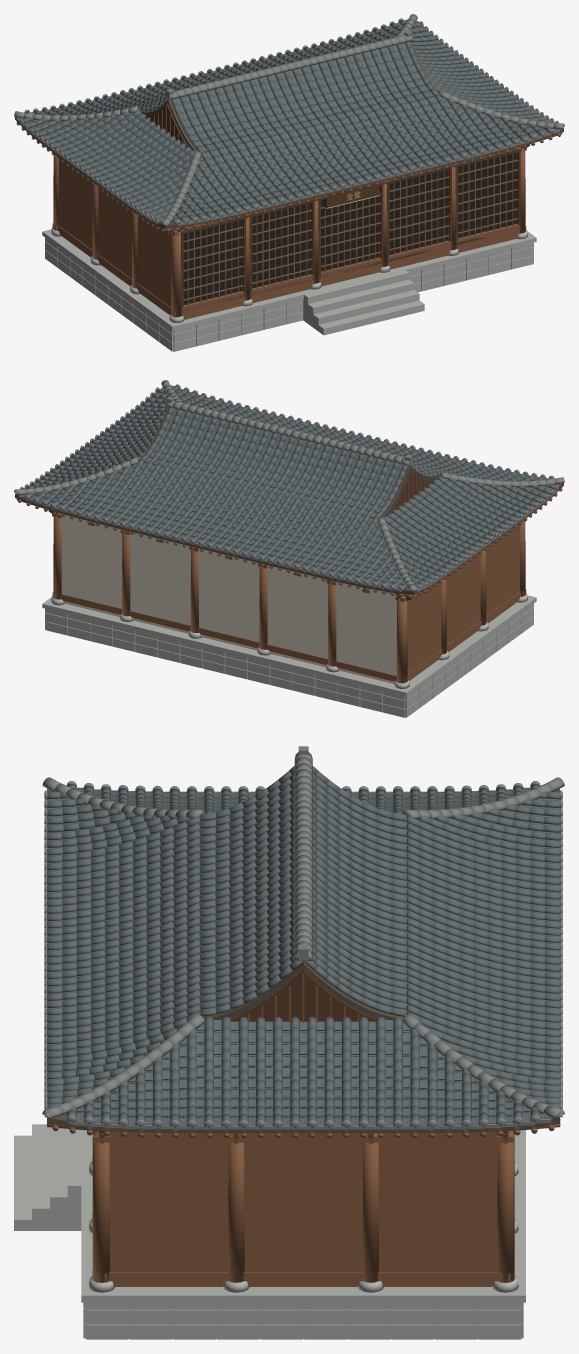
Rendered from Japan_Kondo.fbx.
3 renders of one model, top to bottom at view 1: azimuth 30°, elevation 25°; view 2: azimuth 150°, elevation 25°; view 3: azimuth 270°, elevation 25°, orthographic. The views are drawn at different scales.
Parts seen in each view (by area): view 1: GW_Japan_Kondo_Individual_Sukiwa, GW_Japan_Kondo_Doors_Lattice, GW_Japan_Kondo_Individual_Amkiwa, GW_Japan_Kondo_Stone_Foundation, GW_Japan_Kondo_Walls_Floor, GW_Japan_Kondo_Timber, GW_Japan_Kondo_Segmented_Ridge, GW_Japan_Kondo_Individual_Wadang, GW_Japan_Kondo_Roof_Shell, GW_Japan_Kondo_Individual_Rafters, GW_Japan_Kondo_Signboard; view 2: GW_Japan_Kondo_Individual_Sukiwa, GW_Japan_Kondo_Walls_Floor, GW_Japan_Kondo_Individual_Amkiwa, GW_Japan_Kondo_Stone_Foundation, GW_Japan_Kondo_Timber, GW_Japan_Kondo_Segmented_Ridge, GW_Japan_Kondo_Individual_Wadang, GW_Japan_Kondo_Roof_Shell, GW_Japan_Kondo_Individual_Rafters; view 3: GW_Japan_Kondo_Individual_Sukiwa, GW_Japan_Kondo_Walls_Floor, GW_Japan_Kondo_Individual_Amkiwa, GW_Japan_Kondo_Stone_Foundation, GW_Japan_Kondo_Timber, GW_Japan_Kondo_Segmented_Ridge, GW_Japan_Kondo_Roof_Shell, GW_Japan_Kondo_Individual_Wadang, GW_Japan_Kondo_Individual_Rafters.
Boxes of the visible parts, <box> form: GW_Japan_Kondo_Individual_Sukiwa: <box>23,20,557,223</box>; GW_Japan_Kondo_Doors_Lattice: <box>181,149,520,319</box>; GW_Japan_Kondo_Individual_Amkiwa: <box>16,19,560,225</box>; GW_Japan_Kondo_Stone_Foundation: <box>42,229,536,351</box>; GW_Japan_Kondo_Walls_Floor: <box>59,149,510,314</box>; GW_Japan_Kondo_Timber: <box>51,146,527,322</box>; GW_Japan_Kondo_Segmented_Ridge: <box>14,14,564,225</box>; GW_Japan_Kondo_Individual_Wadang: <box>19,18,558,225</box>; GW_Japan_Kondo_Roof_Shell: <box>15,41,563,229</box>; GW_Japan_Kondo_Individual_Rafters: <box>16,121,562,231</box>; GW_Japan_Kondo_Signboard: <box>324,182,379,208</box>; GW_Japan_Kondo_Individual_Sukiwa: <box>21,386,555,589</box>; GW_Japan_Kondo_Walls_Floor: <box>61,515,519,683</box>; GW_Japan_Kondo_Individual_Amkiwa: <box>18,385,557,592</box>; GW_Japan_Kondo_Stone_Foundation: <box>42,595,536,717</box>; GW_Japan_Kondo_Timber: <box>51,512,527,688</box>; GW_Japan_Kondo_Segmented_Ridge: <box>14,380,564,591</box>; GW_Japan_Kondo_Individual_Wadang: <box>20,384,559,591</box>; GW_Japan_Kondo_Roof_Shell: <box>15,387,563,595</box>; GW_Japan_Kondo_Individual_Rafters: <box>16,487,562,597</box>; GW_Japan_Kondo_Individual_Sukiwa: <box>47,766,560,1122</box>; GW_Japan_Kondo_Walls_Floor: <box>109,1131,497,1286</box>; GW_Japan_Kondo_Individual_Amkiwa: <box>44,787,562,1129</box>; GW_Japan_Kondo_Stone_Foundation: <box>14,1124,525,1339</box>; GW_Japan_Kondo_Timber: <box>88,1131,518,1292</box>; GW_Japan_Kondo_Segmented_Ridge: <box>42,746,564,1118</box>; GW_Japan_Kondo_Roof_Shell: <box>47,788,559,1133</box>; GW_Japan_Kondo_Individual_Wadang: <box>44,781,562,1129</box>; GW_Japan_Kondo_Individual_Rafters: <box>47,1118,560,1138</box>.
Size of what is drawn, in the model's own units: 15.99 by 7.56 by 11.06.
